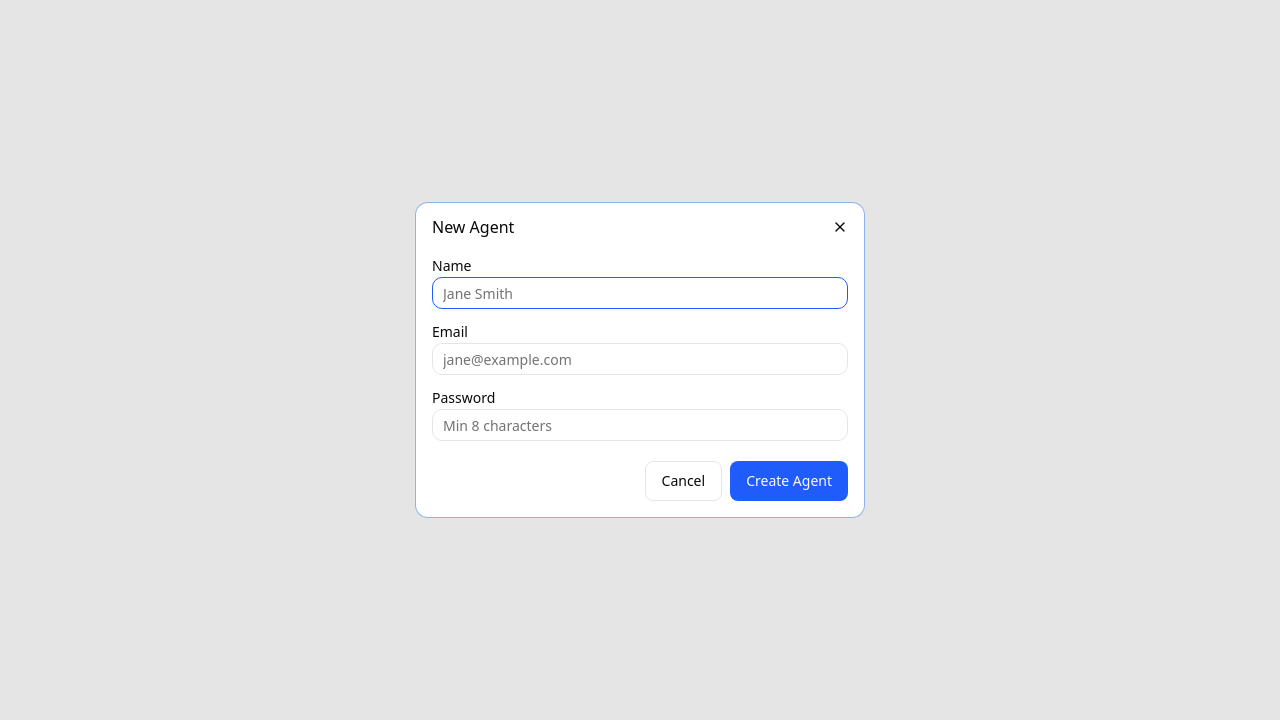
Test: CreateUserModal › validation › shows min-length error when name is too short
The width and height of the screenshot is (1280, 720).
Type "Jo" into the field labelled "Name" at (640, 293), box [432,277,848,309]
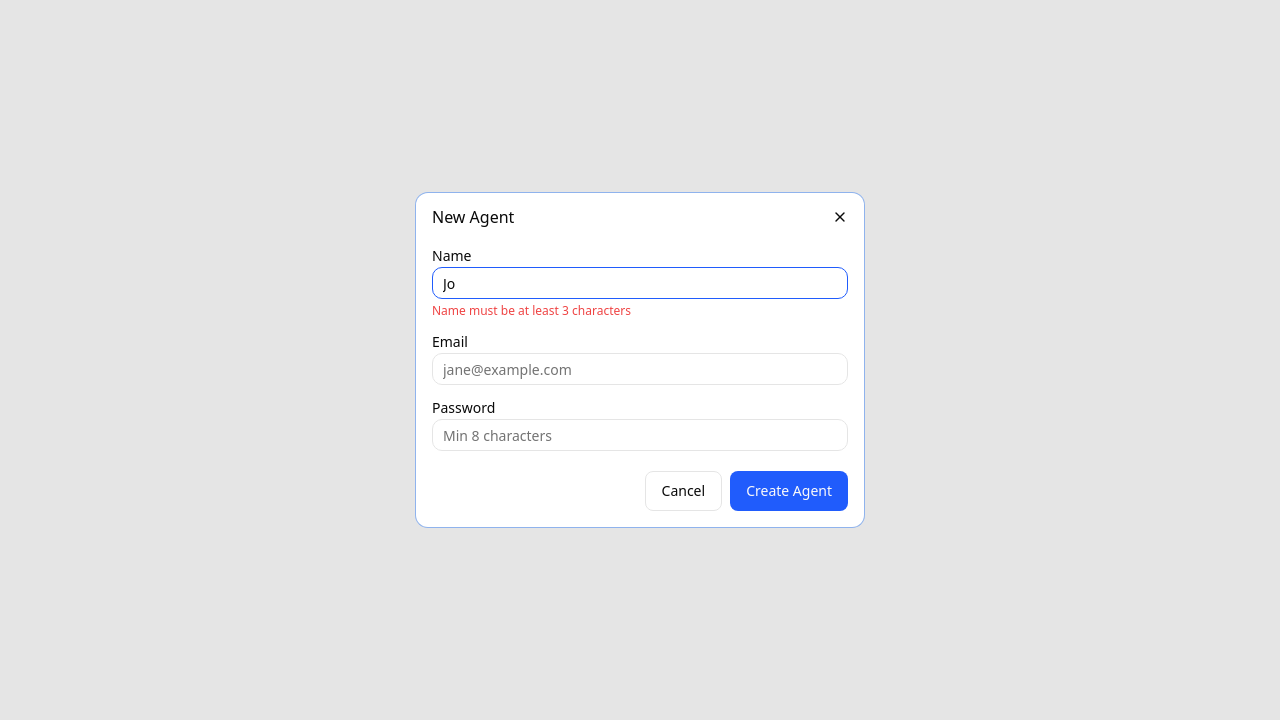
Check: the text "Name must be at least 3 characters" is shown, box [432,302,631,319]
